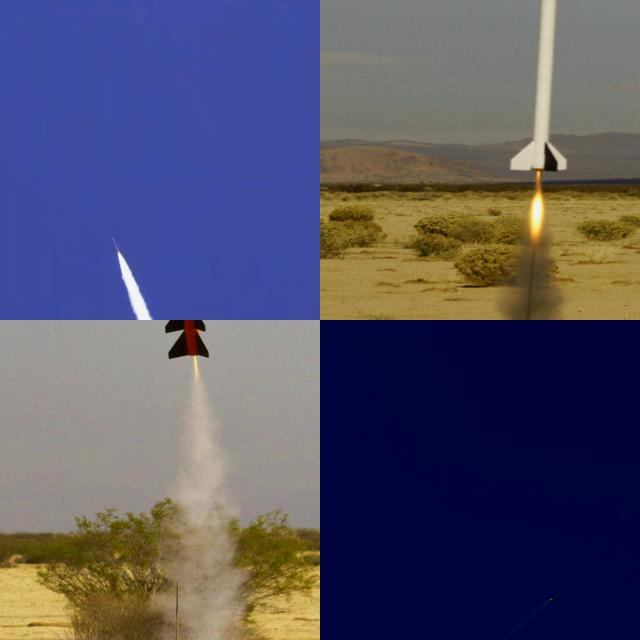Rocket: (508, 0, 569, 173), (165, 320, 210, 359), (111, 235, 120, 254), (548, 592, 560, 601)
